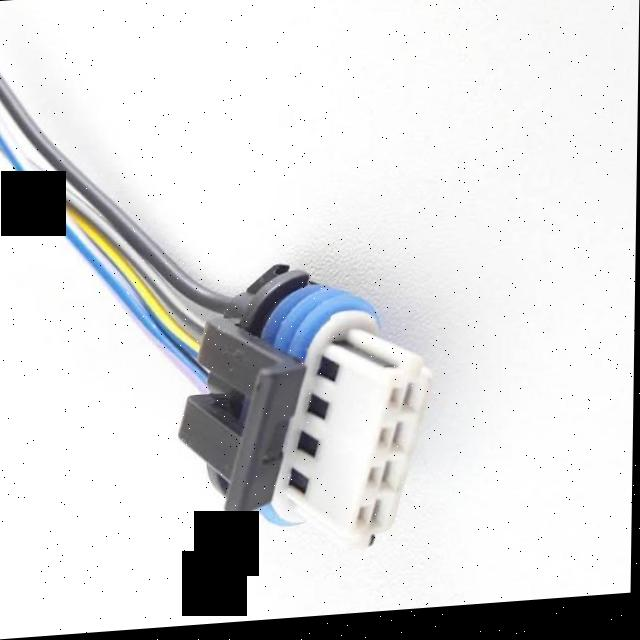connector: (163, 256, 448, 559)
